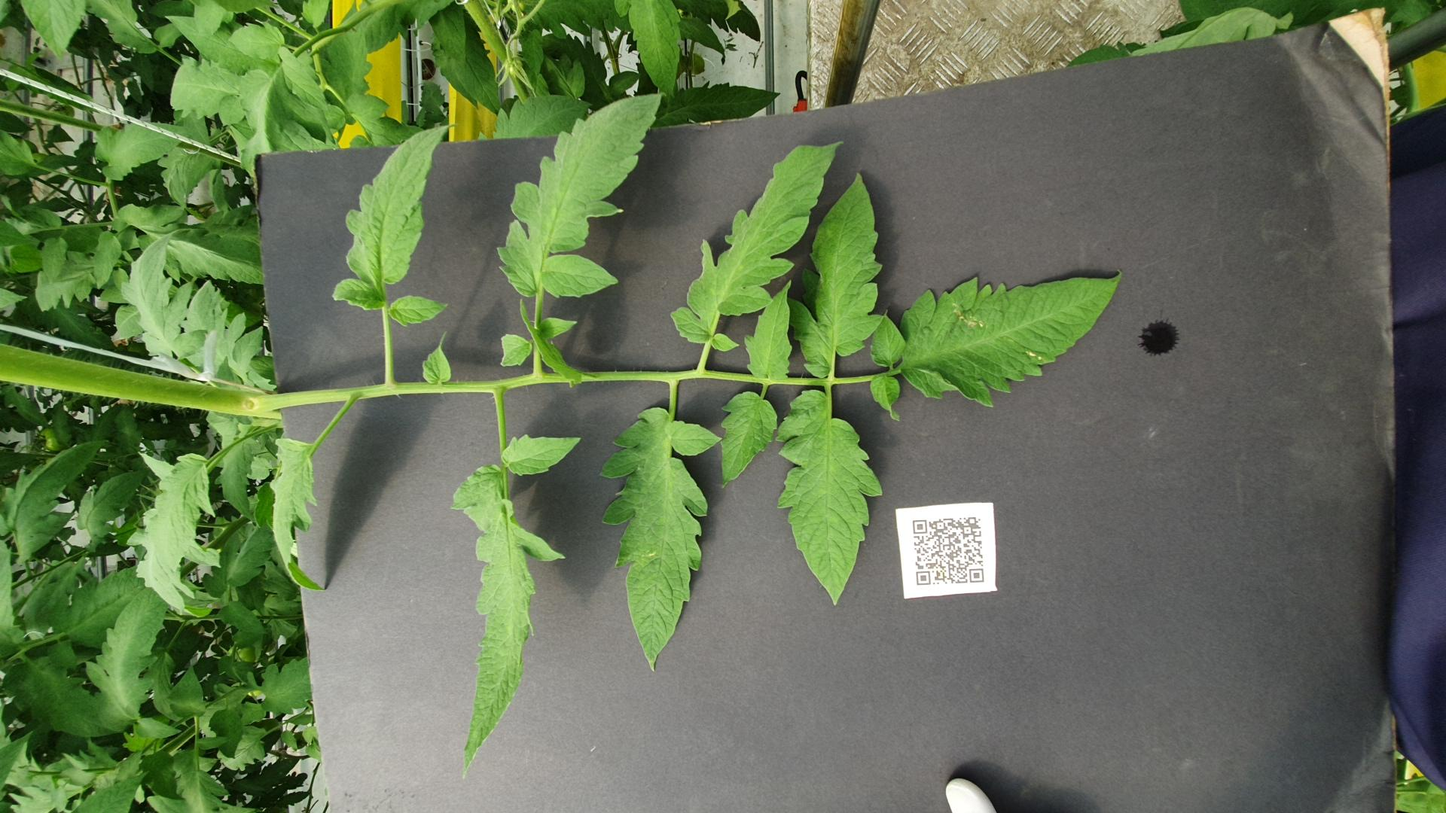Healthy: (62, 252, 675, 327), (820, 378, 1196, 475), (915, 278, 1285, 375), (249, 336, 720, 406), (863, 187, 1229, 259), (367, 437, 752, 497), (774, 443, 1138, 497), (348, 76, 643, 121), (441, 3, 663, 61), (938, 63, 1082, 149), (144, 47, 401, 95), (811, 72, 1042, 118), (133, 0, 280, 63), (393, 151, 667, 184), (1268, 345, 1446, 383), (1314, 92, 1420, 155), (294, 36, 440, 81), (1217, 365, 1302, 439), (1126, 52, 1230, 111), (574, 404, 753, 437), (383, 112, 516, 153), (491, 41, 616, 84), (1219, 95, 1345, 136), (771, 417, 948, 446), (1237, 253, 1399, 281), (1202, 277, 1279, 332), (518, 120, 663, 144), (0, 97, 112, 128), (1250, 157, 1365, 185), (177, 145, 278, 176), (1339, 127, 1411, 161), (73, 122, 158, 150), (168, 92, 266, 116), (96, 117, 187, 138), (317, 122, 379, 149), (933, 53, 1035, 68), (941, 22, 1027, 38), (1306, 291, 1397, 306)
Leaf_Miner: (700, 489, 969, 632)
